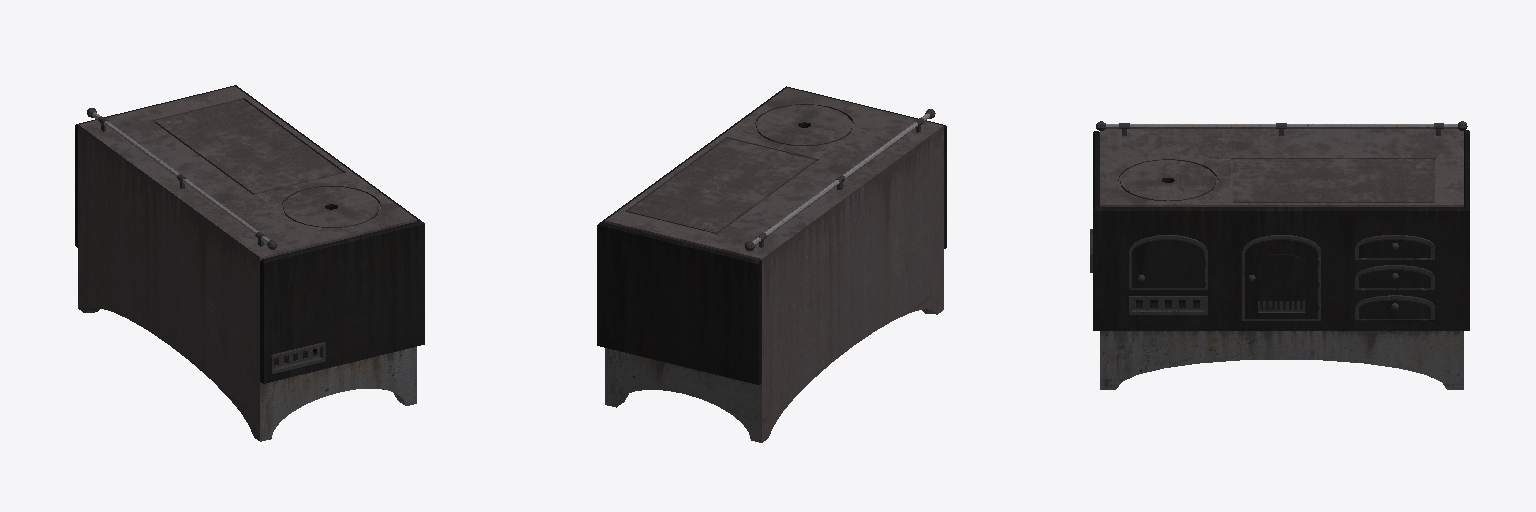
3 views of the same model, side by side, from view 1: azimuth 30°, elevation 25°; view 2: azimuth 150°, elevation 25°; view 3: azimuth 270°, elevation 25° (orthographic).
Visible parts, largest first — view 1: smallstovemesh; view 2: smallstovemesh; view 3: smallstovemesh.
Boxes of the visible parts, box(x1,y1,x2,y2) form: smallstovemesh: box(75, 85, 424, 441); smallstovemesh: box(597, 86, 946, 442); smallstovemesh: box(1090, 121, 1469, 389).
Bounding box in the file's own units: 1.56 × 1.73 × 3.
Materials: 1 (1 with a texture image).